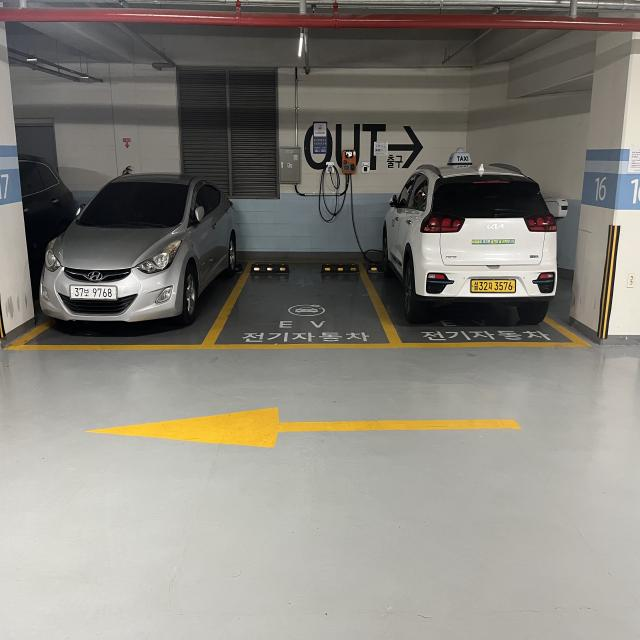empty: (211, 261, 397, 350)
occupied: (366, 180, 575, 359), (42, 168, 216, 352)
